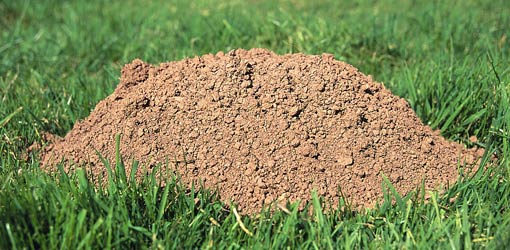dirt: (48, 52, 487, 207)
grass: (48, 189, 504, 247), (1, 5, 507, 52), (1, 54, 109, 244), (400, 54, 507, 137)
